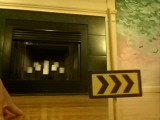right: (89, 71, 142, 96)
